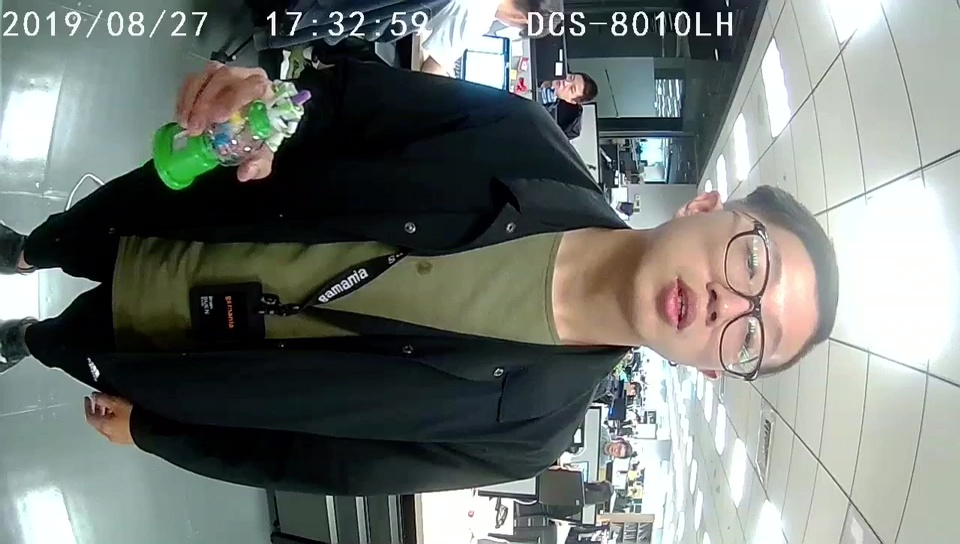buzz: (152, 77, 312, 192)
